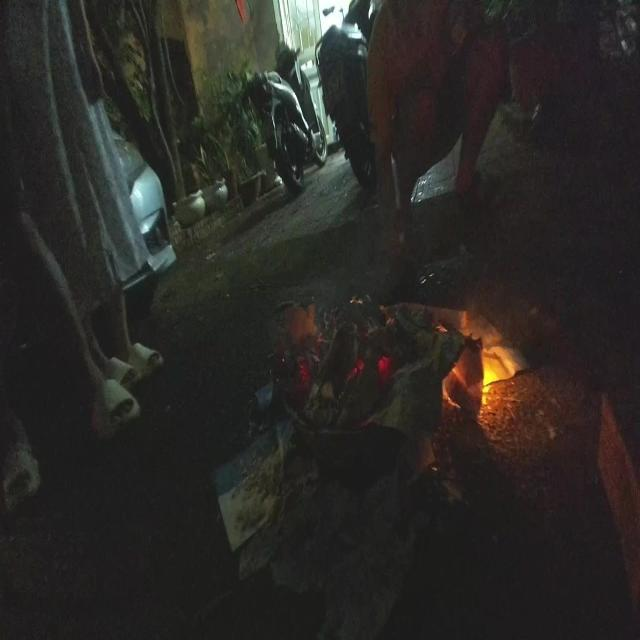Fire: (482, 355, 498, 406)
